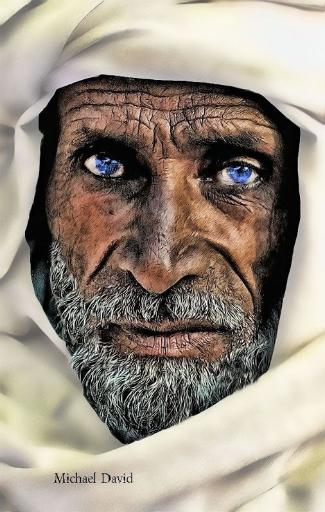left_eye: (206, 152, 270, 189)
left_lip_corner: (207, 317, 231, 342)
right_eye: (80, 138, 137, 177)
right_lip_corner: (102, 313, 132, 343)
